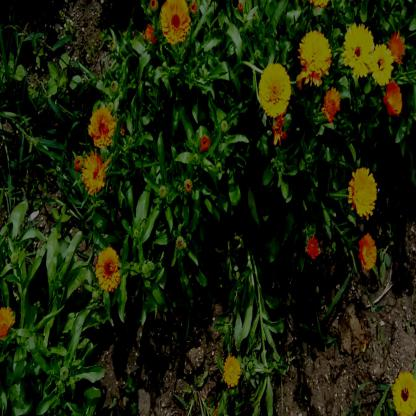marigold: (299, 32, 331, 82), (344, 24, 374, 77), (261, 65, 290, 113), (348, 168, 375, 218), (158, 2, 186, 40), (95, 247, 118, 291), (88, 106, 113, 146), (84, 151, 107, 194), (391, 371, 414, 412), (270, 106, 292, 146), (382, 80, 404, 115), (372, 45, 392, 81), (358, 234, 376, 269), (222, 353, 240, 387), (0, 302, 15, 338)
